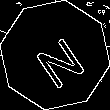N_NW: (24, 23, 86, 87)
